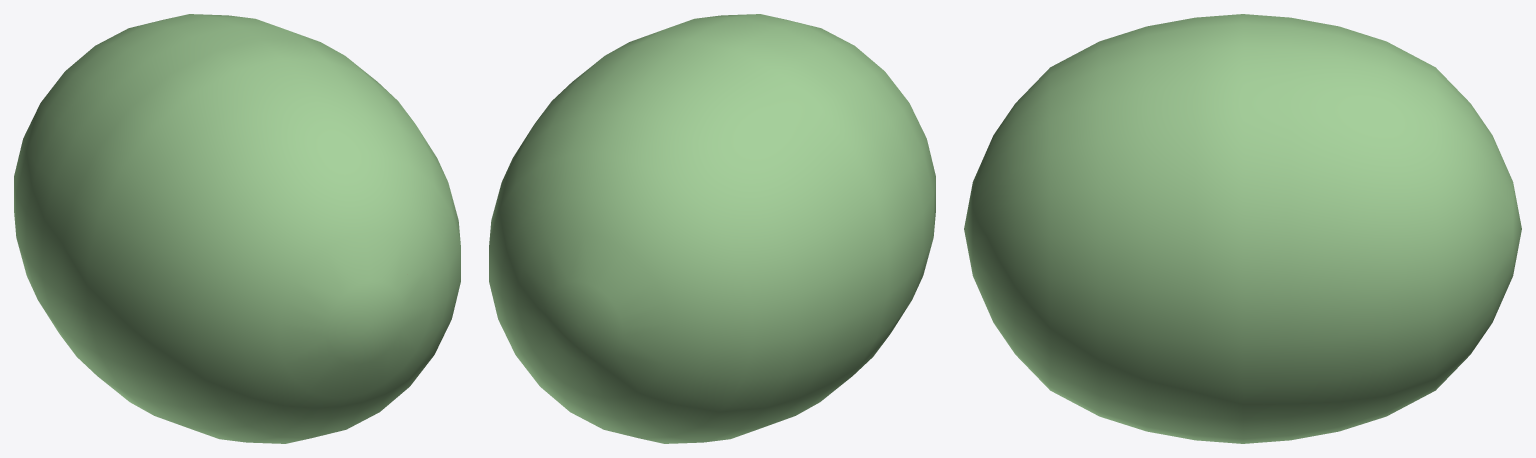
File: melon-frags.glb
3 renders of one model, left to right at view 1: azimuth 30°, elevation 25°; view 2: azimuth 150°, elevation 25°; view 3: azimuth 270°, elevation 25°, orthographic. The views are drawn at different scales.
Parts seen in each view (by area): view 1: frag_11, frag_10, frag_5, frag_8, frag_7, frag_9, frag_4, frag_3, frag_1; view 2: frag_5, frag_0, frag_3, frag_7, frag_11, frag_2, frag_4, frag_10, frag_1; view 3: frag_1, frag_0, frag_11, frag_8, frag_9, frag_2, frag_7, frag_3, frag_10.
Boxes of the visible parts, x1,y1,x2,y2 form: frag_11: (124, 20, 423, 250); frag_10: (124, 203, 415, 416); frag_5: (15, 106, 255, 442); frag_8: (207, 157, 460, 441); frag_7: (66, 14, 258, 141); frag_9: (315, 40, 443, 172); frag_4: (32, 71, 261, 442); frag_3: (14, 179, 240, 441); frag_1: (234, 311, 453, 443); frag_5: (729, 130, 932, 374); frag_0: (489, 182, 805, 443); frag_3: (543, 165, 853, 416); frag_7: (575, 72, 850, 217); frag_11: (579, 14, 903, 152); frag_2: (543, 83, 818, 349); frag_4: (682, 150, 809, 264); frag_10: (894, 86, 935, 246); frag_1: (499, 84, 569, 192); frag_1: (1033, 150, 1453, 424); frag_0: (1118, 153, 1521, 443); frag_11: (988, 14, 1337, 206); frag_8: (966, 168, 1134, 375); frag_9: (1073, 120, 1338, 263); frag_2: (1250, 79, 1481, 179); frag_7: (1264, 15, 1448, 124); frag_3: (1436, 119, 1511, 179); frag_10: (964, 119, 1004, 241).
Bounding box in the file's own units: 0.323 × 0.323 × 0.4224.
